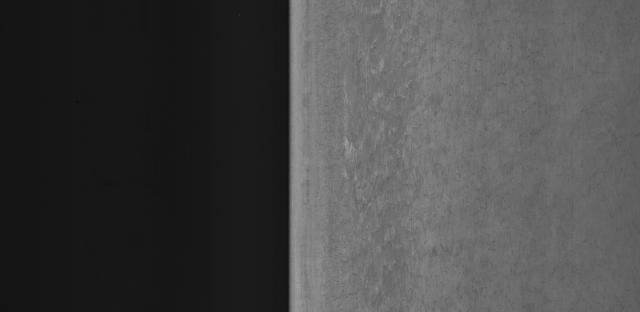silk_spot: (332, 14, 507, 286)
